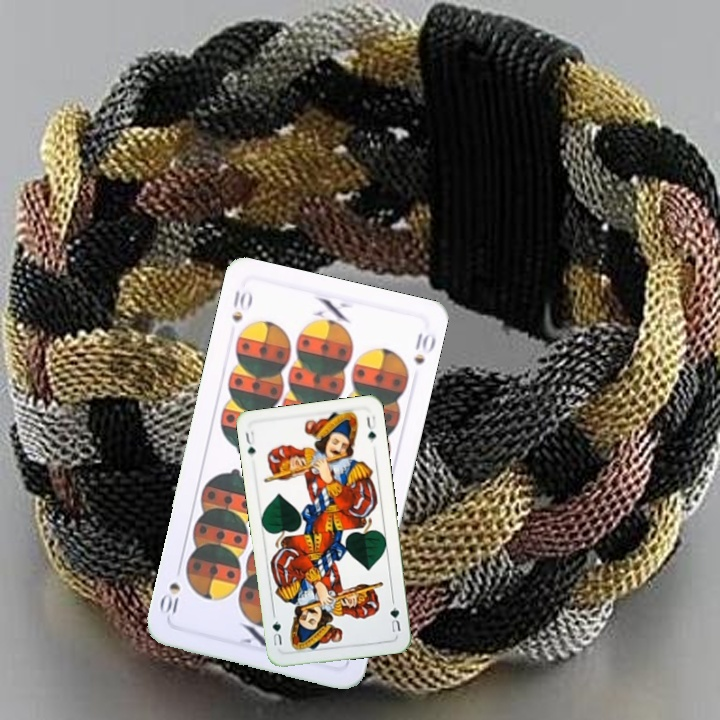GU: (386, 597, 403, 635), (241, 427, 258, 460)
S10: (228, 286, 255, 325)
